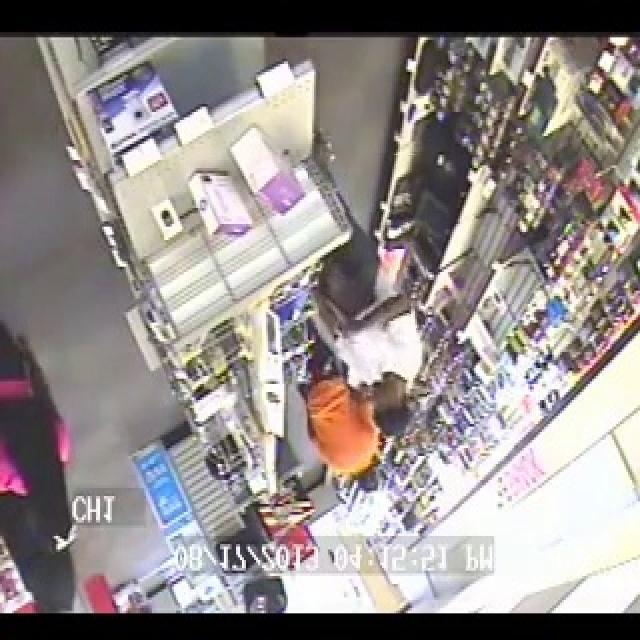Shoplifting: (308, 153, 427, 442)
